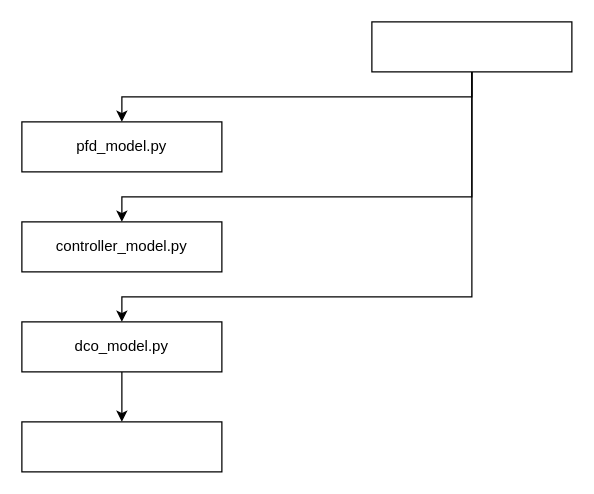
This 594x494 diagram has some shape labels left out. The centre of each missing label's shape, as x and y in pixels:
app_pll_model.py: pixel 121 446
Simulator: pixel 471 46
